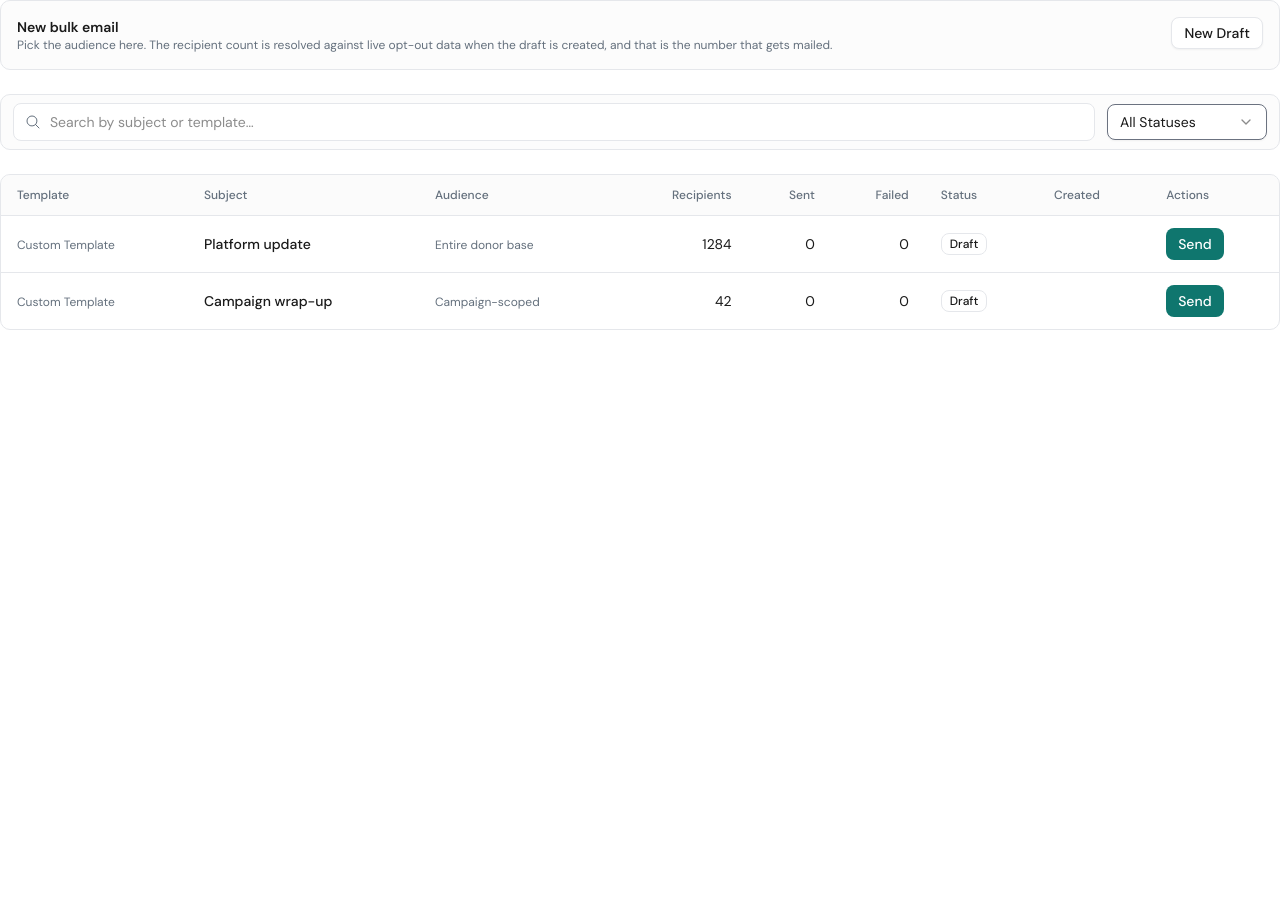
un-scoped send is gated on an explicit confirmation › resets the confirmation when the dialog is reopened
This screenshot has width=1280, height=900.
expect the text "Platform update" is shown: met, box left=188, top=216, right=419, bottom=272
Click the button "Send" in the row of "Platform update". click: point(1195, 244)
box: left=1166, top=228, right=1224, bottom=260
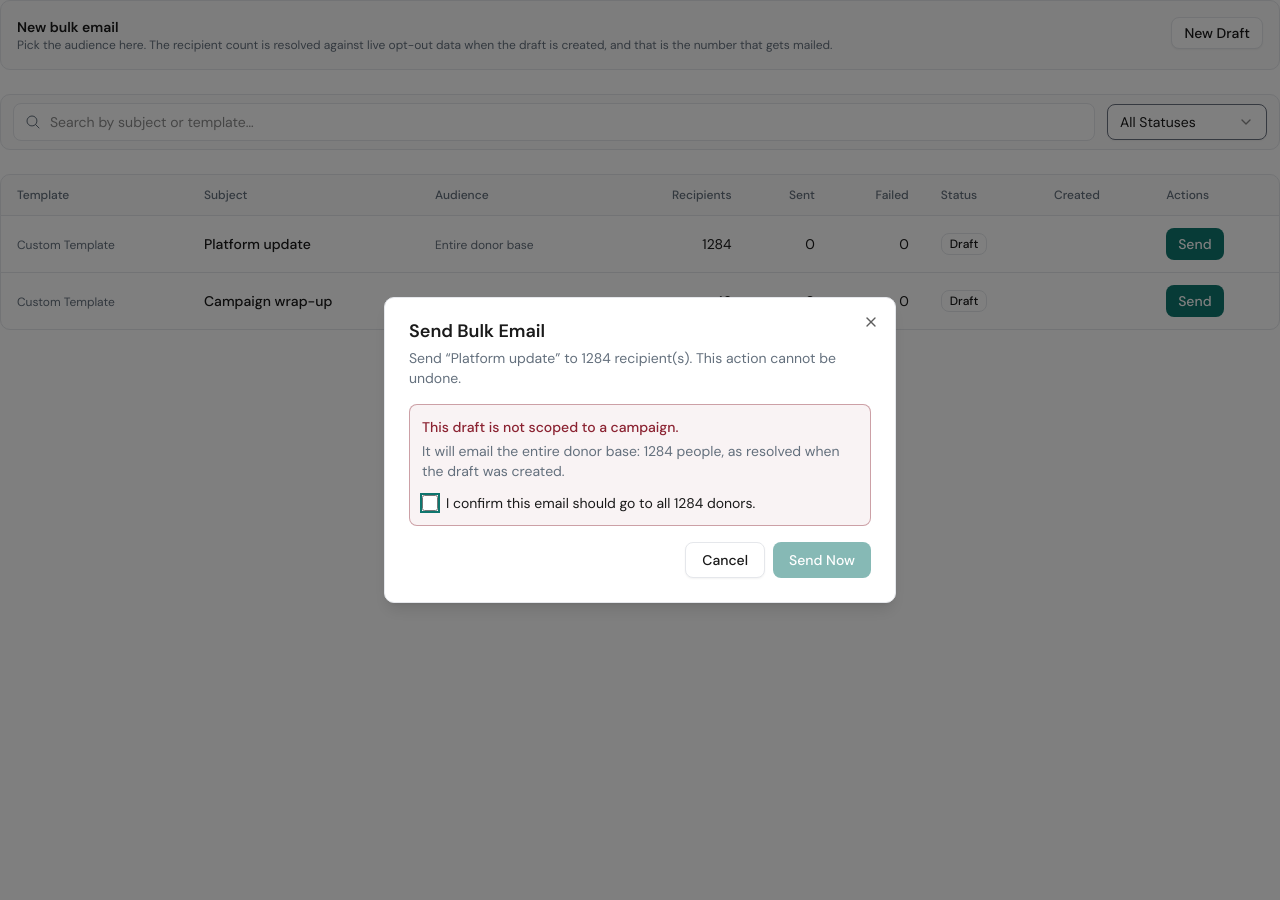
expect the heading "Send Bulk Email" is shown: met, box left=409, top=319, right=545, bottom=343
Click the checkbox labelled "I confirm this email should go to all 1284 donors.". click: point(430, 503)
box: left=422, top=495, right=438, bottom=511
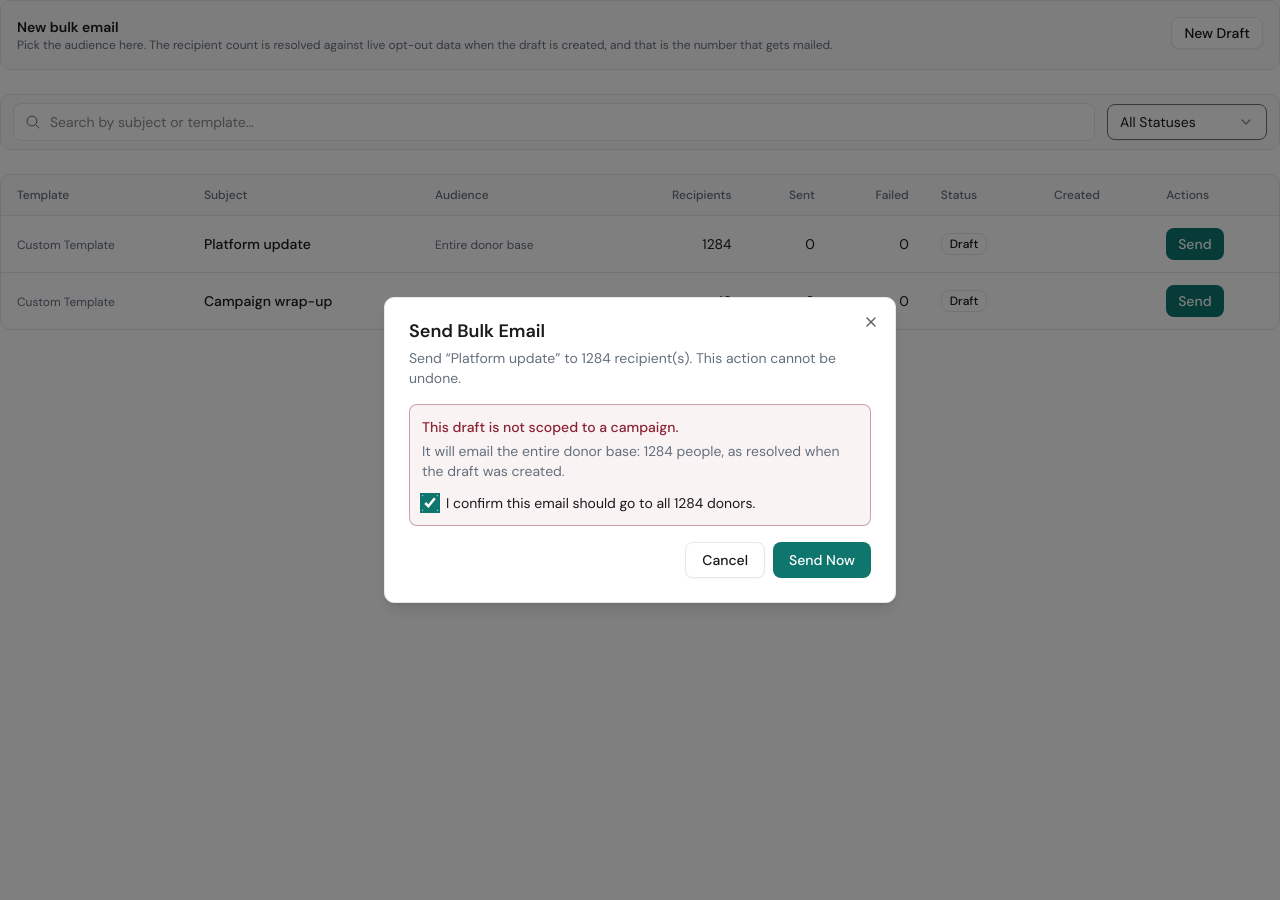
Click the button "Cancel". click: point(725, 560)
box: left=685, top=542, right=765, bottom=578
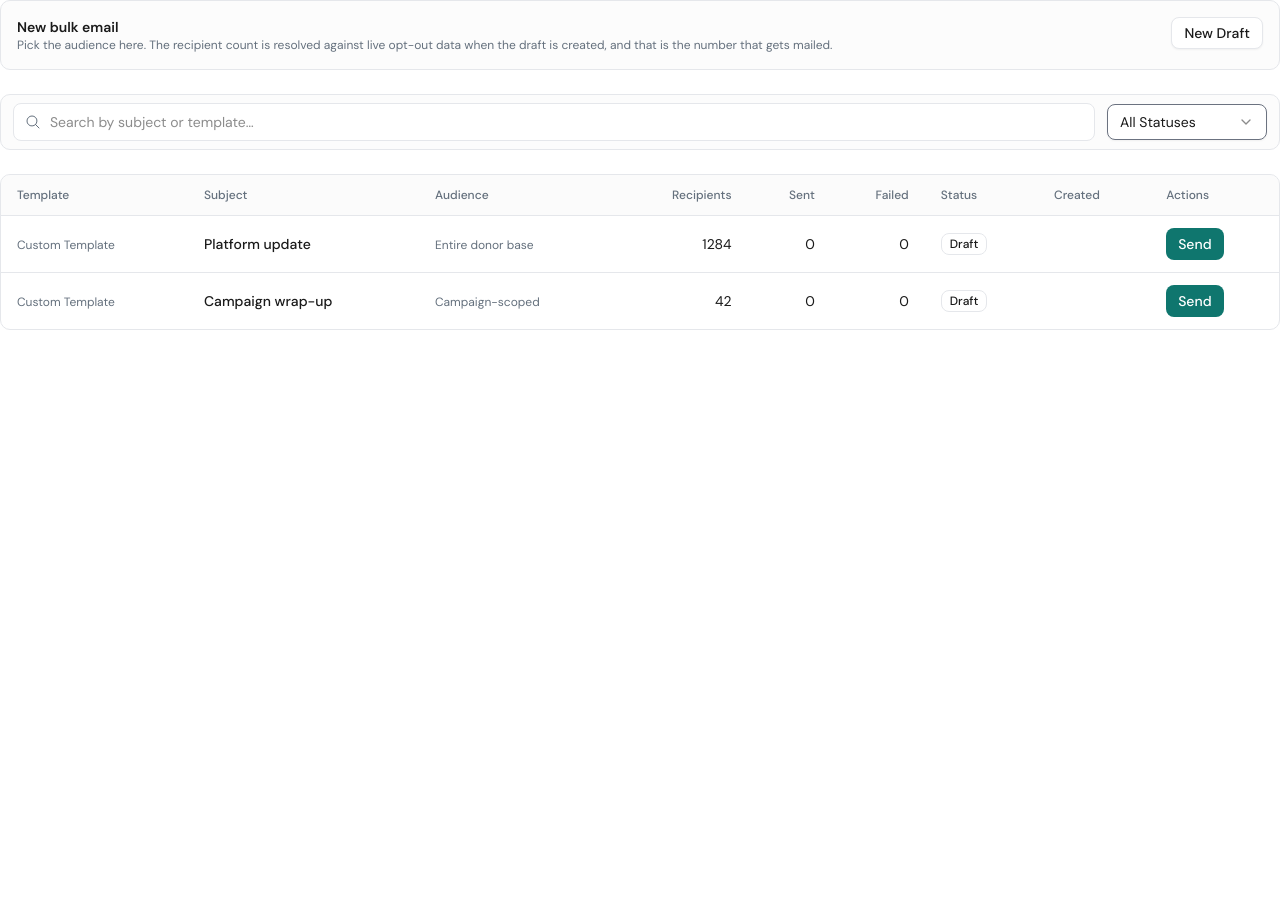
expect the heading "Send Bulk Email" is gone: met
Click the button "Send" in the row of "Platform update". click: point(1195, 244)
box: left=1166, top=228, right=1224, bottom=260
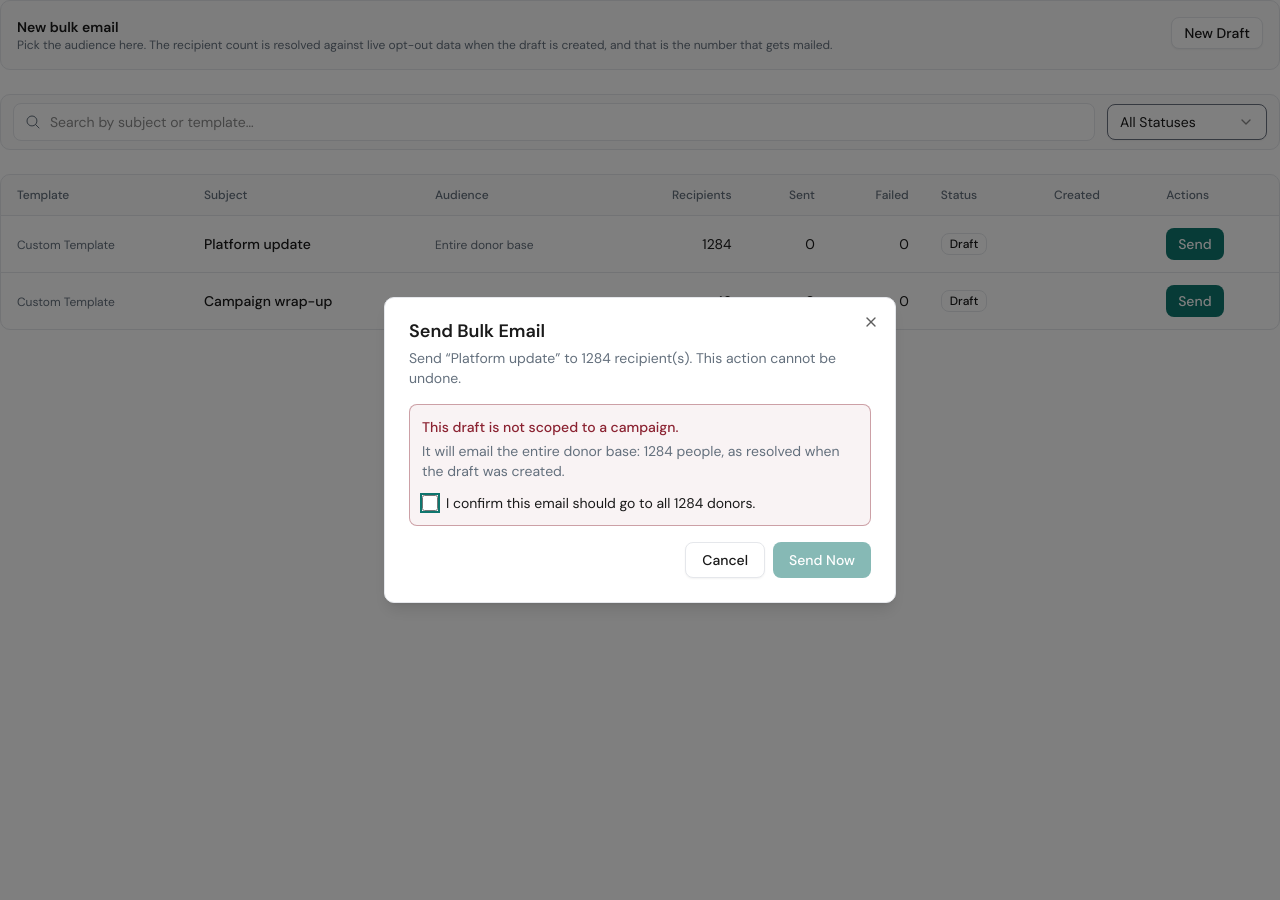
expect the heading "Send Bulk Email" is shown: met, box left=409, top=319, right=545, bottom=343
expect the checkbox labelled "I confirm this email should go to all 1284 donors." is not checked: met, box left=422, top=495, right=438, bottom=511
expect the button "Send Now" is disabled: met, box left=773, top=542, right=871, bottom=578
